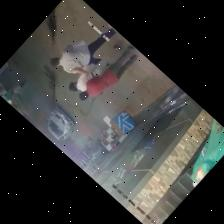person: (79, 45, 137, 99), (50, 24, 115, 72), (69, 58, 108, 91), (11, 79, 26, 93), (0, 85, 10, 95)
